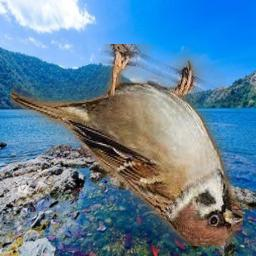Sparrow: (11, 44, 244, 246)
